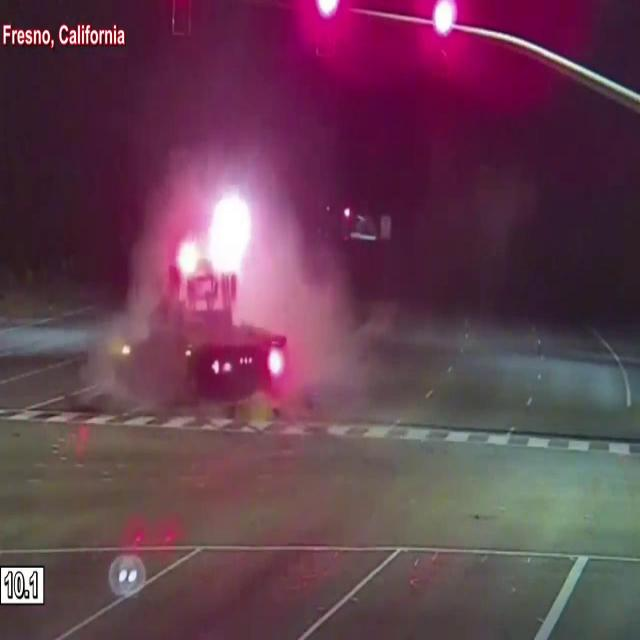accident: (104, 227, 290, 411)
